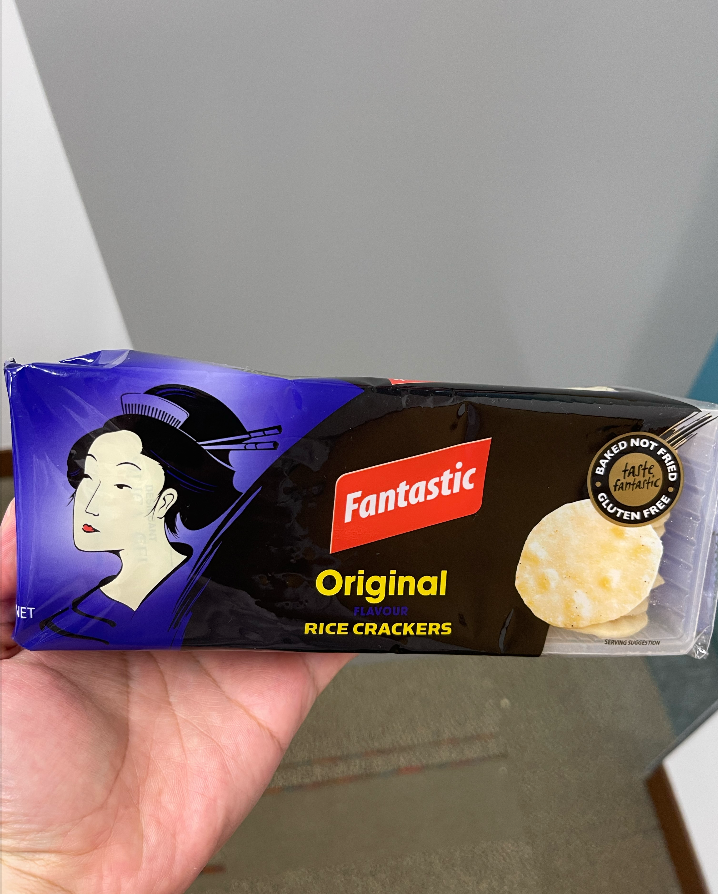crackers_100g-199g: (9, 356, 697, 656)
